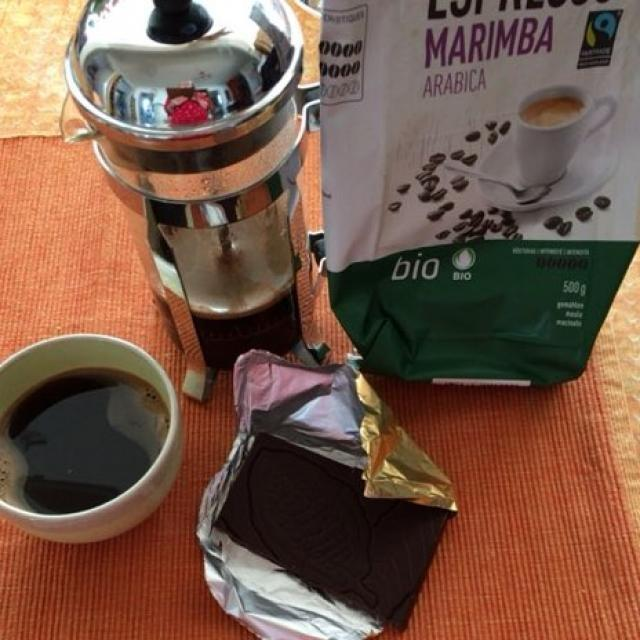chocolate: (218, 437, 436, 610)
coffee: (9, 371, 166, 509)
